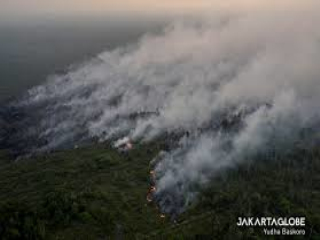smoke: (24, 50, 278, 211)
